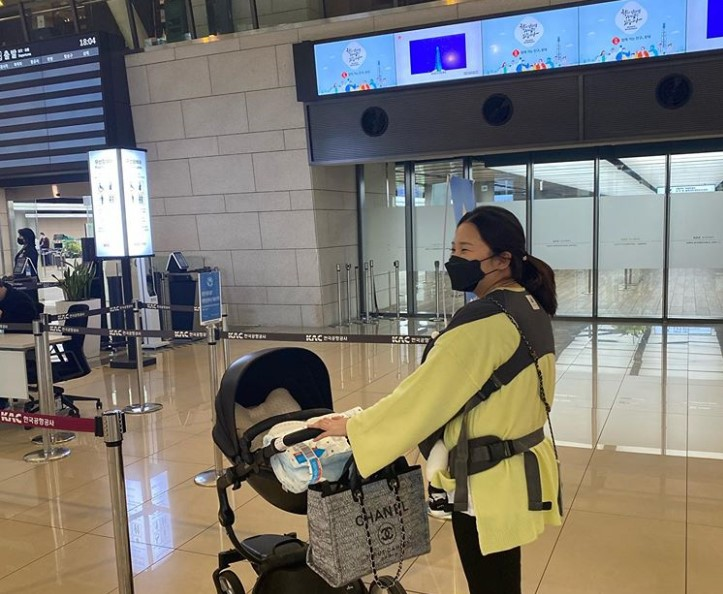face_with_mask: (449, 207, 522, 295)
